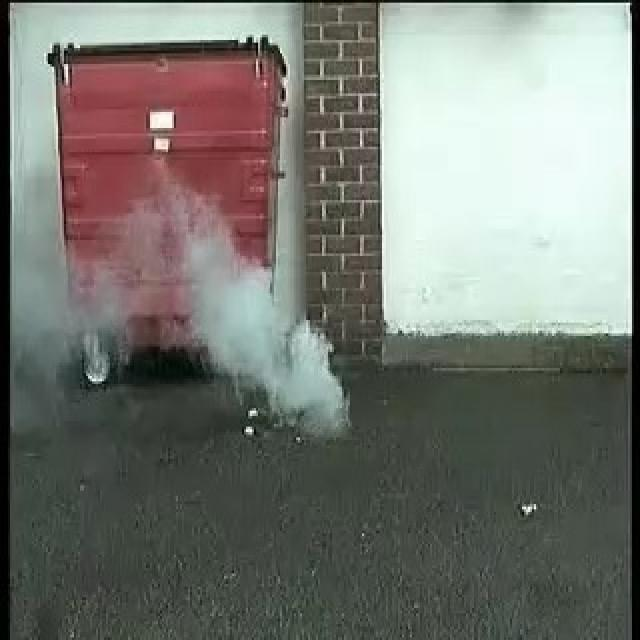smoke: (168, 193, 350, 448)
